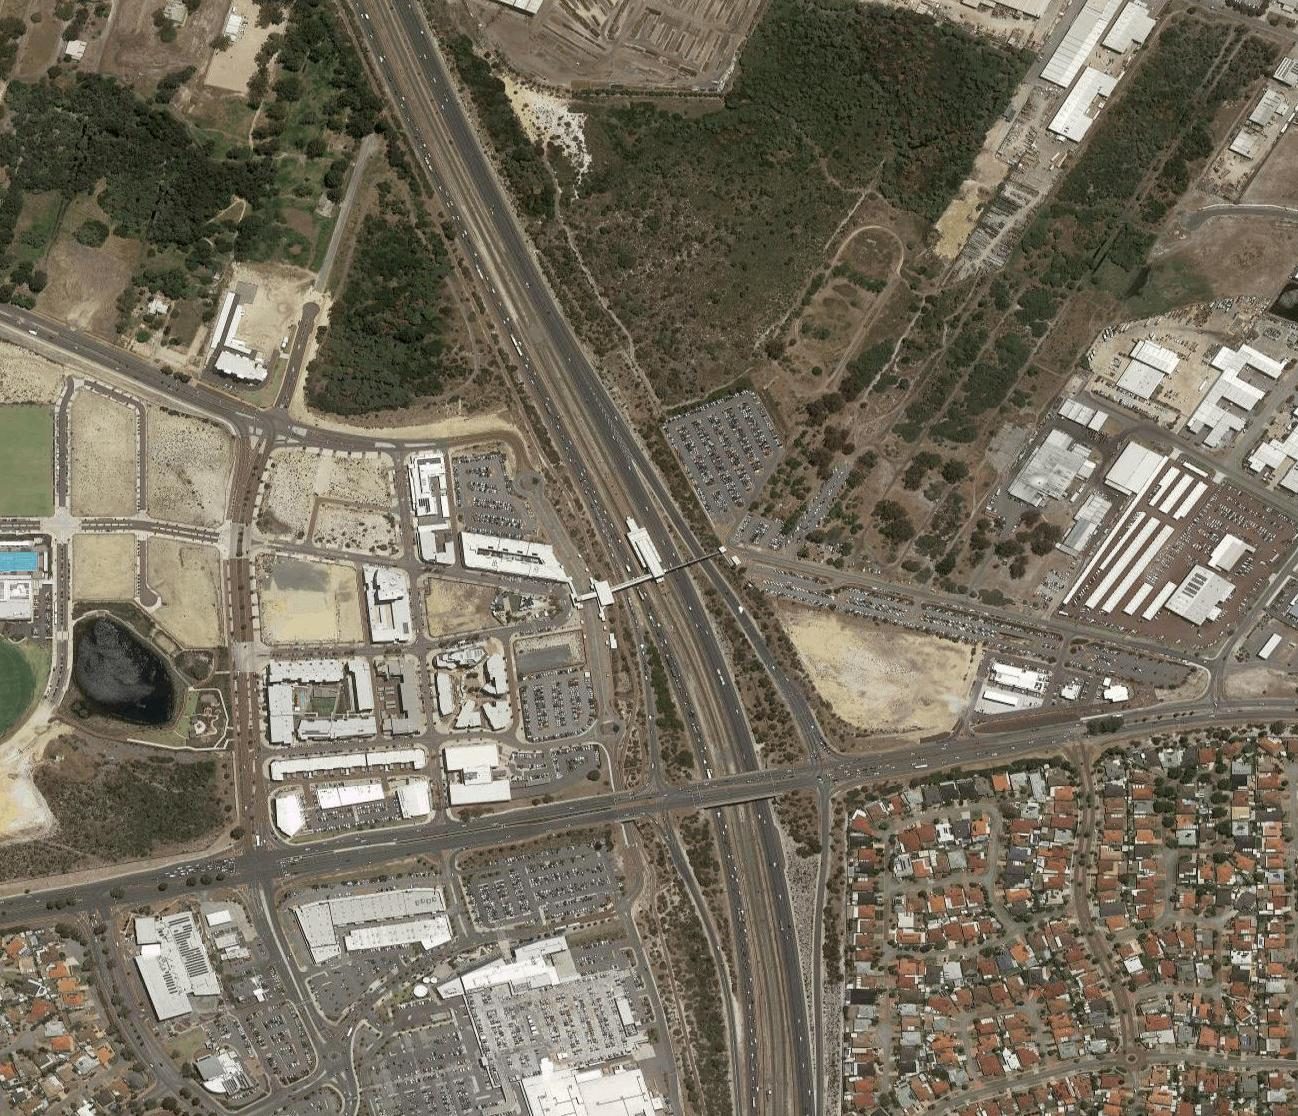bridge: (696, 769, 774, 807)
industrial: (260, 545, 591, 821), (309, 855, 658, 1114)
motorway: (714, 812, 823, 1116), (506, 295, 634, 504), (642, 582, 769, 791), (352, 1, 459, 141), (432, 141, 524, 295), (1111, 679, 1298, 742), (365, 814, 547, 875), (183, 842, 366, 903), (554, 774, 737, 835), (924, 718, 1107, 778), (1, 865, 183, 926), (738, 745, 921, 806), (594, 492, 691, 605)
train_station: (616, 506, 667, 580)
